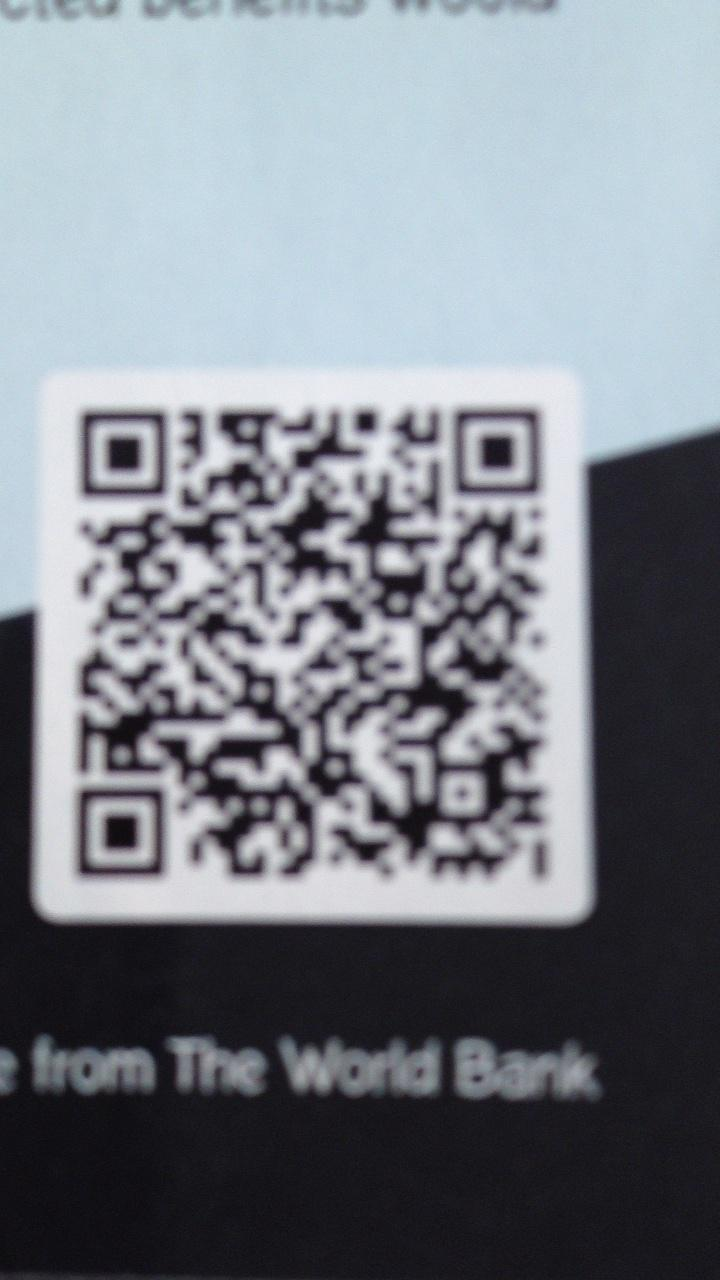Finder pattern: (69, 402, 175, 504), (72, 777, 172, 883), (448, 402, 547, 502)
